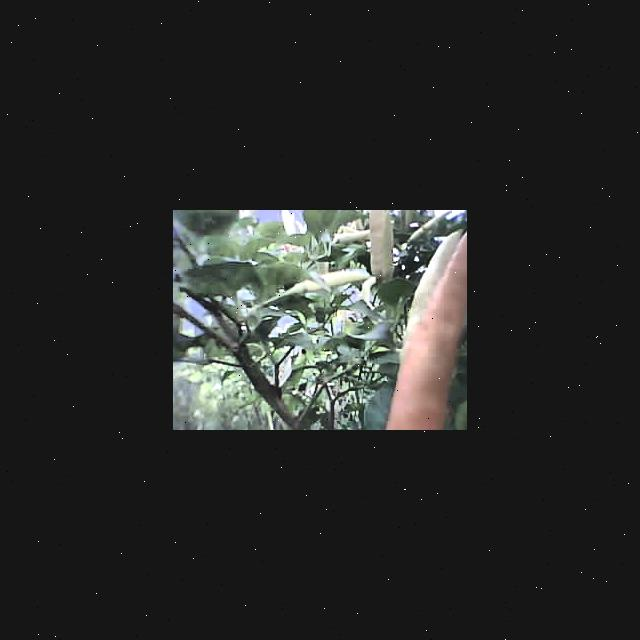Cabai: (403, 223, 467, 430)
